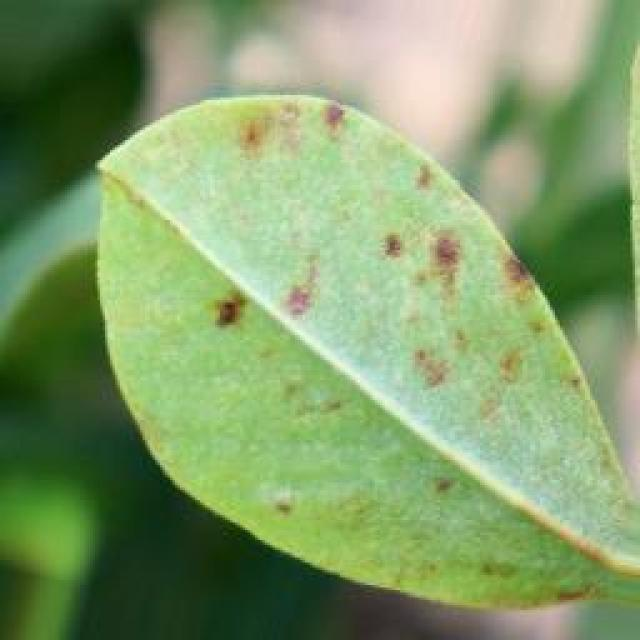Whitefly: (75, 85, 620, 640)
